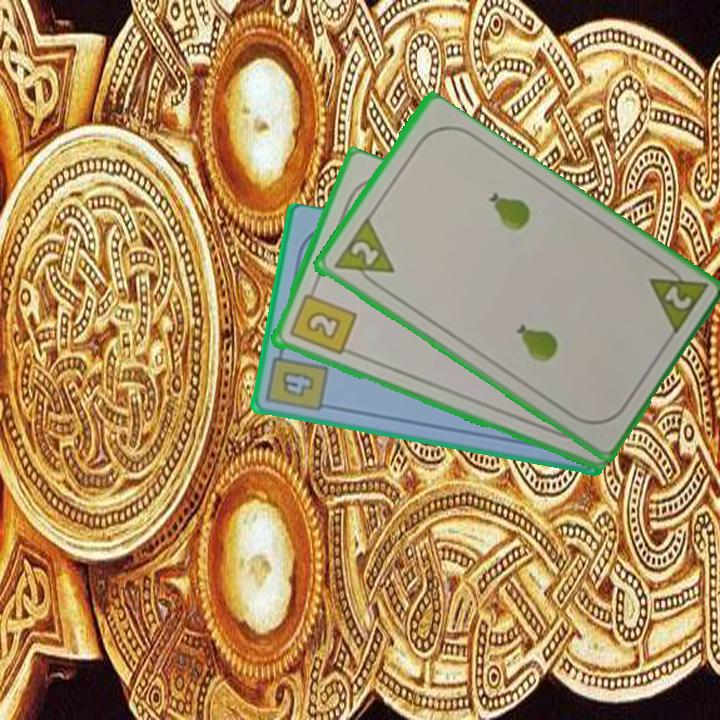2b: (285, 283, 358, 358)
2p: (644, 257, 710, 339), (329, 216, 397, 293)
4b: (263, 343, 331, 415)
